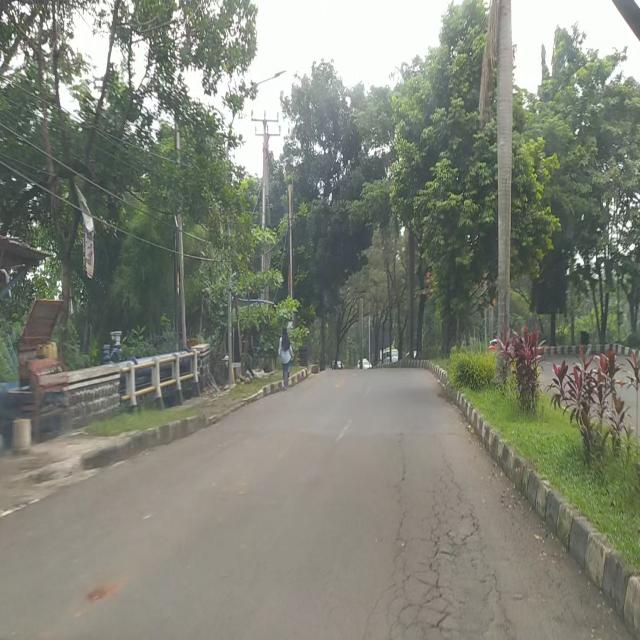Drain Hole: (365, 460, 507, 639)
